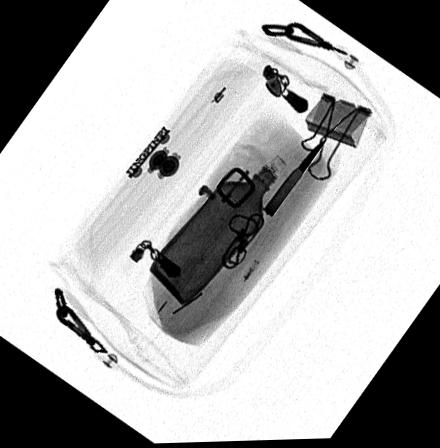Bullet: (259, 136, 329, 220)
